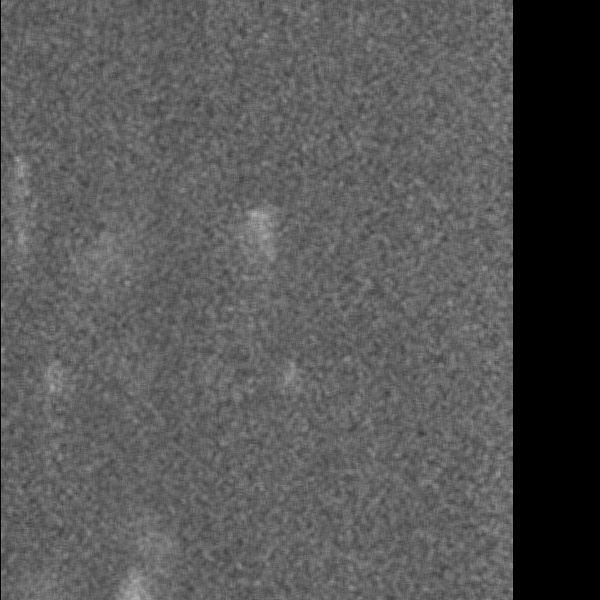spark: (236, 201, 276, 279)
